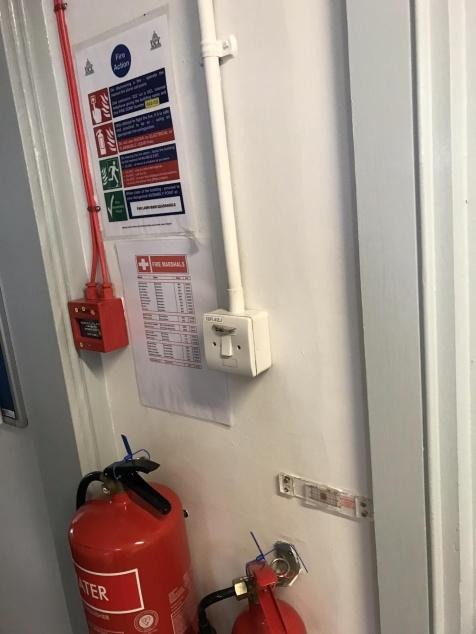APAR: (67, 453, 201, 633)
